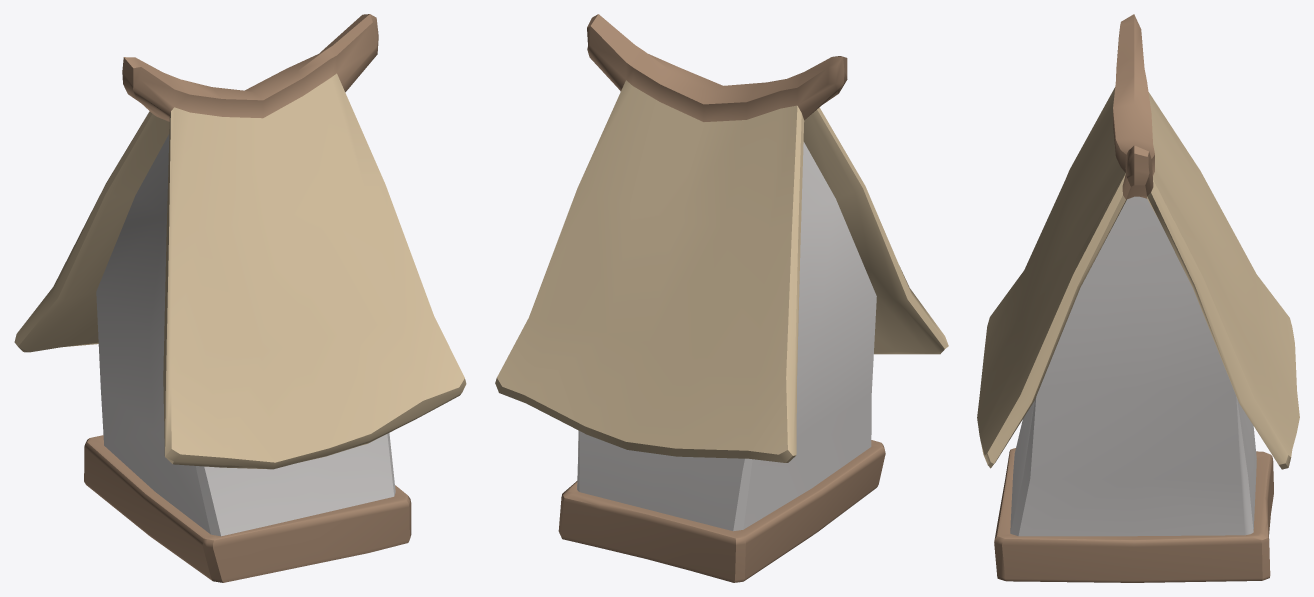
File: Mod_House02.fbx
3 views of the same model, side by side, from view 1: azimuth 30°, elevation 25°; view 2: azimuth 150°, elevation 25°; view 3: azimuth 270°, elevation 25° (orthographic). The views are drawn at different scales.
Parts seen in each view (by area): view 1: House_02; view 2: House_02; view 3: House_02.
Part boxes in pixels (x1,y1,x2,y2): House_02: (14, 14, 466, 582); House_02: (495, 14, 948, 582); House_02: (977, 14, 1299, 582).
Bounding box in the file's own units: 467 × 713 × 449.
